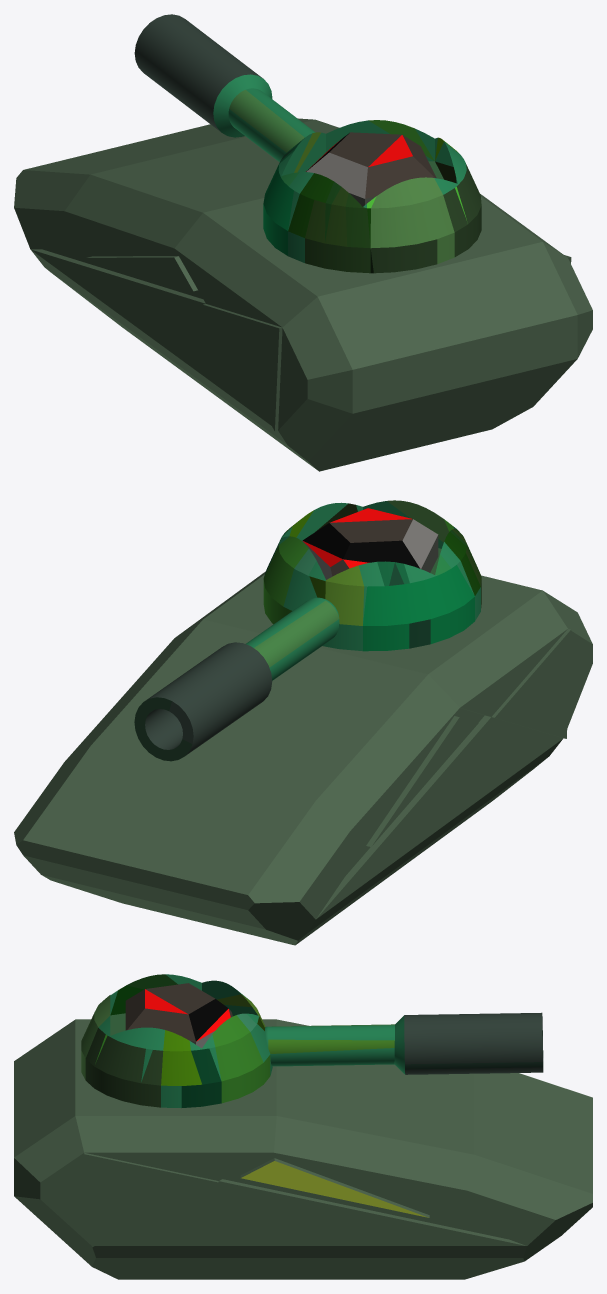
Rendered from Hovertank.glb.
3 views of the same model, one above another, from view 1: azimuth 30°, elevation 25°; view 2: azimuth 150°, elevation 25°; view 3: azimuth 270°, elevation 25° (orthographic). The views are drawn at different scales.
Parts seen in each view (by area): view 1: Body, Turret; view 2: Body, Turret; view 3: Body, Turret.
Part boxes in pixels (x1,y1,x2,y2): Body: [14, 118, 592, 471]; Turret: [134, 14, 481, 273]; Body: [14, 571, 592, 945]; Turret: [134, 500, 481, 761]; Body: [14, 1019, 592, 1279]; Turret: [81, 974, 543, 1107].
Size of the model in its own units: 3.07 by 2.79 by 6.
Materials: 1 (1 with a texture image).
